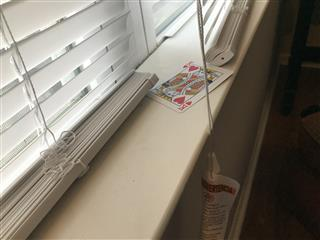KingOfHearts: (146, 57, 234, 112)
